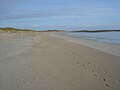human_foot_print: (72, 52, 116, 88), (73, 53, 110, 87), (82, 60, 119, 88), (87, 63, 117, 88), (91, 65, 119, 88), (87, 62, 112, 87), (90, 68, 110, 87), (91, 70, 110, 87), (72, 52, 89, 68), (65, 48, 81, 64), (93, 72, 110, 87), (71, 52, 86, 68), (82, 61, 97, 76), (82, 62, 98, 76), (72, 52, 86, 68), (94, 64, 111, 77), (94, 64, 110, 77), (102, 77, 119, 89), (80, 56, 93, 71), (87, 62, 100, 76), (79, 55, 90, 69), (102, 71, 115, 82), (87, 62, 97, 76), (71, 52, 81, 63), (66, 49, 75, 60), (101, 69, 111, 77), (72, 52, 81, 60), (91, 70, 99, 77), (103, 78, 110, 86), (113, 80, 119, 89), (102, 71, 111, 77), (102, 70, 110, 76), (73, 57, 80, 63), (71, 52, 77, 59), (74, 58, 81, 63), (73, 58, 80, 63), (94, 64, 100, 69), (76, 57, 81, 63), (74, 58, 80, 63), (115, 80, 119, 87), (71, 52, 76, 56), (82, 64, 86, 68), (80, 56, 84, 60), (106, 74, 111, 77), (104, 83, 109, 86), (93, 73, 97, 76), (77, 61, 80, 64), (103, 78, 106, 81), (97, 67, 100, 70), (115, 80, 119, 82), (88, 62, 90, 65), (91, 70, 94, 72), (84, 67, 87, 69), (82, 65, 85, 67), (94, 64, 96, 67)
